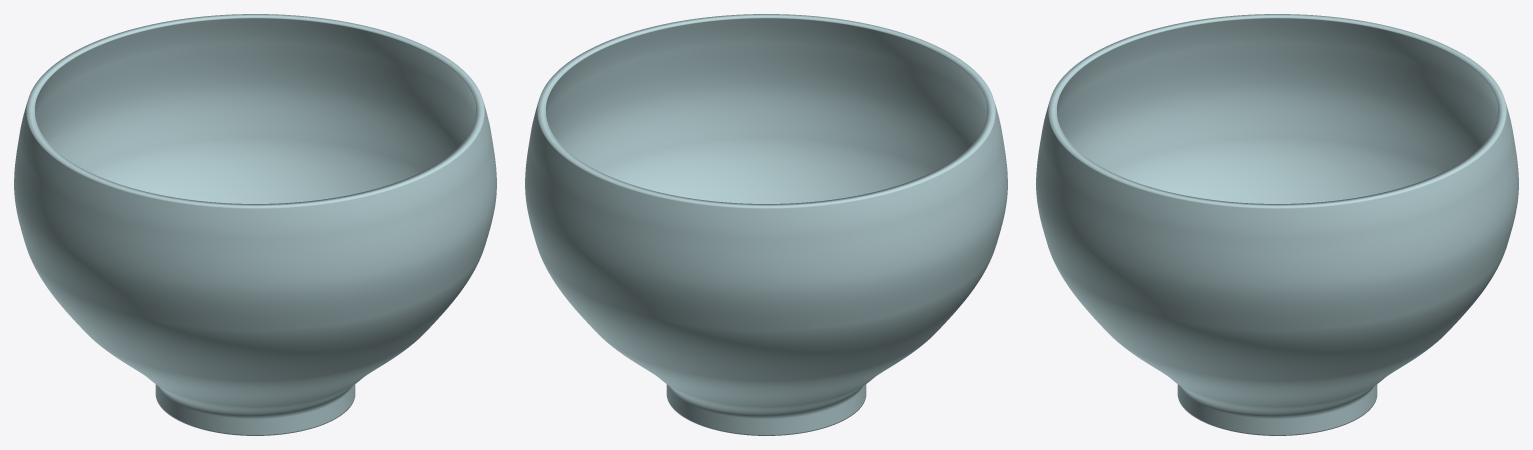
The picture shows the model from 3 angles, left to right: view 1: azimuth 30°, elevation 25°; view 2: azimuth 150°, elevation 25°; view 3: azimuth 270°, elevation 25°; orthographic projection.
Visible parts, largest first — view 1: MoonJarConcept; view 2: MoonJarConcept; view 3: MoonJarConcept.
Part boxes in pixels (box(x1,y1,x2,y2)): MoonJarConcept: box(14, 14, 496, 435); MoonJarConcept: box(525, 14, 1007, 435); MoonJarConcept: box(1036, 14, 1518, 435).
Size of the model in its own units: 0.116 by 0.075 by 0.116.
